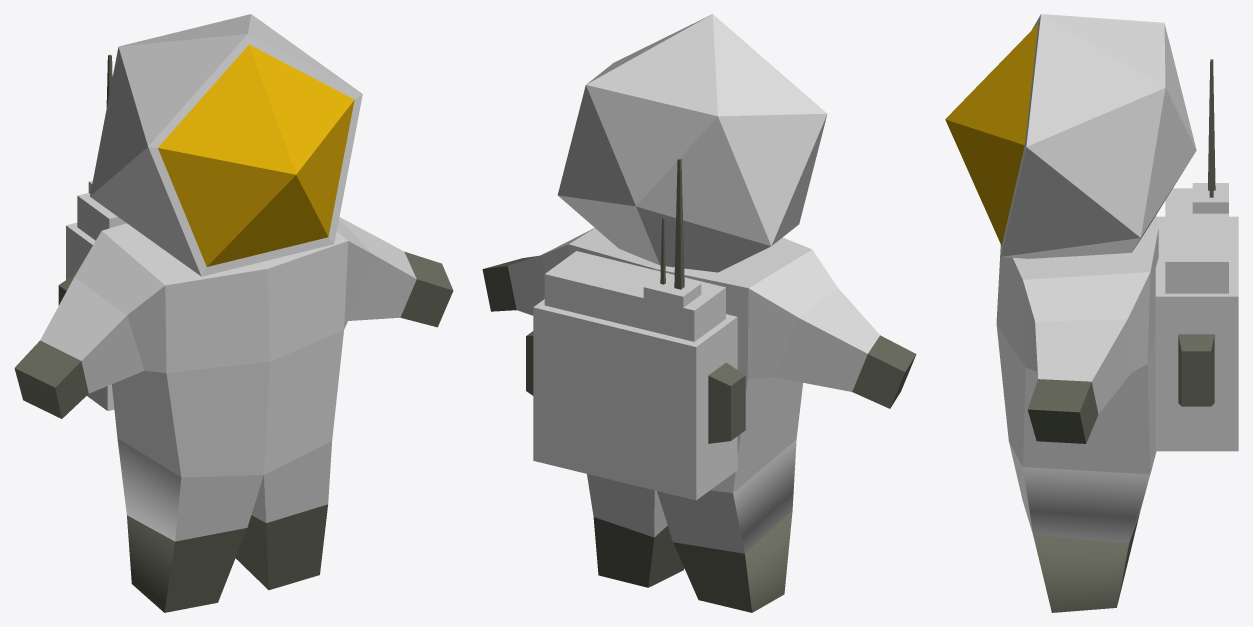
The model's file is astroPieces.fbx.
3 renders of one model, left to right at view 1: azimuth 30°, elevation 25°; view 2: azimuth 150°, elevation 25°; view 3: azimuth 270°, elevation 25°, orthographic.
Visible parts, largest first — view 1: Player.008, Player.017, Player.007, Player.012, Player.014, Player.013, Player.010, Player.015, Player.016, Player.011, Player.009, Player.004 (+1 smaller); view 2: Player.008, Player.004, Player.012, Player.003, Player.014, Player.013, Player.007, Player.017, Player.015, Player.016, Player.011, Player.006 (+3 smaller); view 3: Player.008, Player.010, Player.004, Player.017, Player.016, Player.003, Player.007, Player.015, Player.009, Player.005, Player.002.
Boxes of the visible parts, x1,y1,x2,y2 form: Player.008: [90, 14, 362, 276]; Player.017: [112, 330, 343, 477]; Player.007: [102, 223, 348, 373]; Player.012: [40, 231, 166, 393]; Player.014: [117, 438, 263, 541]; Player.013: [127, 515, 247, 612]; Player.010: [337, 217, 416, 329]; Player.015: [235, 504, 327, 589]; Player.016: [251, 441, 331, 523]; Player.011: [14, 340, 88, 418]; Player.009: [400, 251, 453, 327]; Player.004: [66, 222, 114, 410]; Player.008: [557, 14, 827, 272]; Player.004: [533, 299, 737, 500]; Player.012: [747, 249, 879, 391]; Player.003: [544, 251, 725, 341]; Player.014: [657, 440, 796, 553]; Player.013: [673, 510, 792, 612]; Player.007: [568, 228, 811, 378]; Player.017: [710, 377, 802, 492]; Player.015: [593, 517, 684, 587]; Player.016: [587, 474, 667, 537]; Player.011: [852, 335, 916, 408]; Player.006: [708, 362, 745, 443]; Player.008: [945, 14, 1196, 258]; Player.010: [1023, 272, 1150, 414]; Player.004: [1155, 216, 1238, 451]; Player.017: [996, 324, 1156, 474]; Player.016: [1009, 442, 1150, 543]; Player.003: [1165, 183, 1228, 293]; Player.007: [996, 215, 1158, 366]; Player.015: [1033, 513, 1139, 612]; Player.009: [1027, 379, 1098, 443]; Player.005: [1178, 334, 1214, 406]; Player.002: [1208, 59, 1215, 190].
Size of the model in its own units: 430 by 544 by 257.
